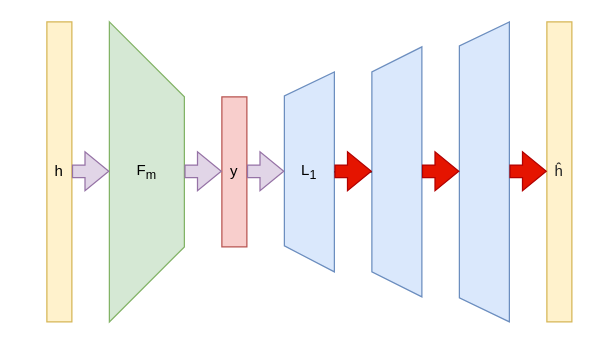
This 594x344 diagram has some shape labels left out. Each missing label, with the box of its shape:
L 2: (371, 46, 422, 297)
L 3: (458, 21, 509, 322)
